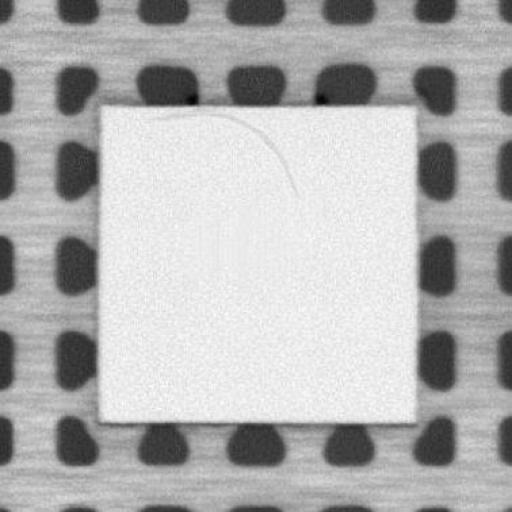DIE_CRACK: (152, 111, 300, 197)
